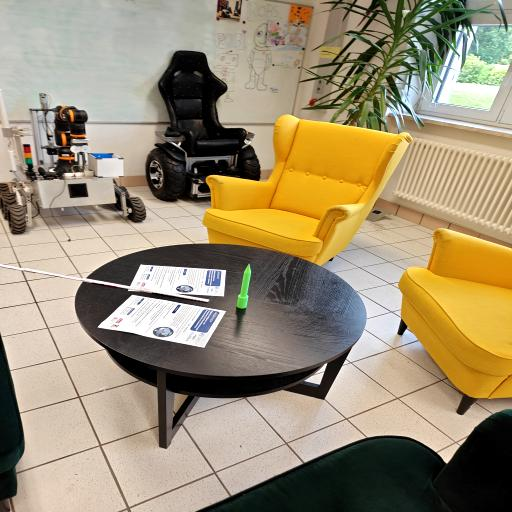Probe-Detection: (236, 264, 251, 308)
